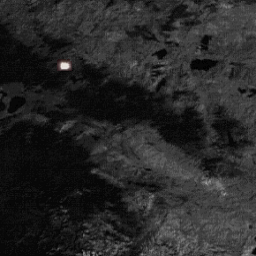Target: (59, 60, 71, 70)
